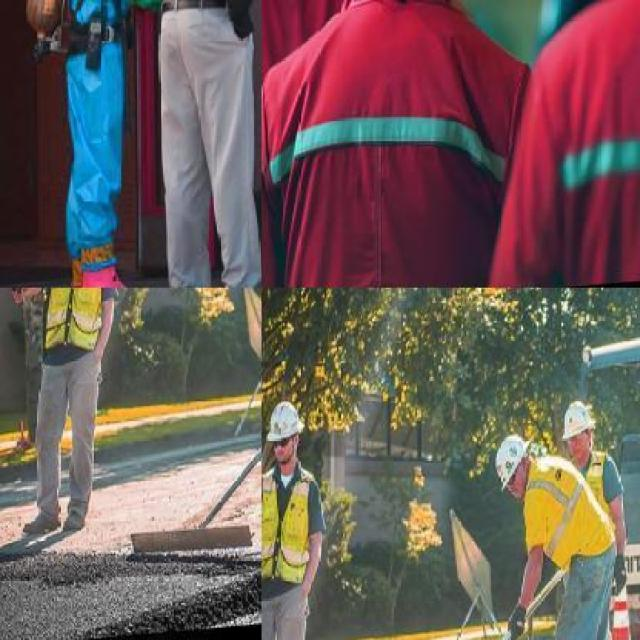Vest: (266, 0, 523, 286), (556, 0, 638, 286), (525, 462, 617, 576), (261, 0, 353, 92), (262, 463, 316, 589), (58, 0, 143, 72), (48, 288, 108, 355), (569, 458, 622, 532)
